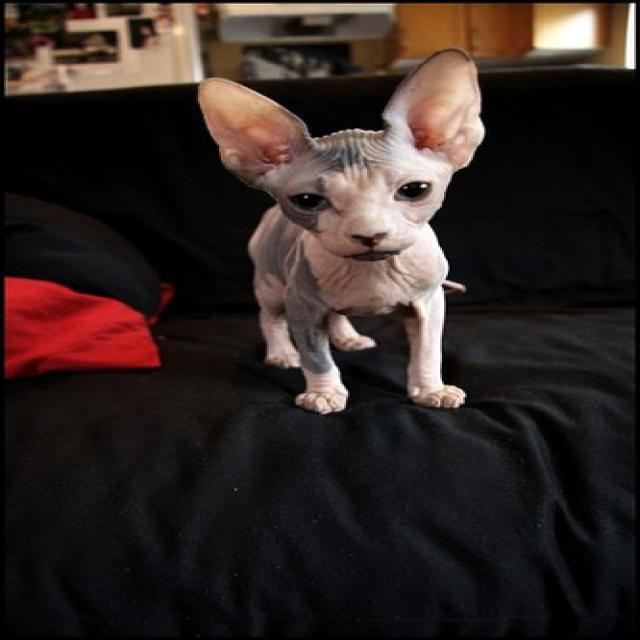cat: (194, 46, 483, 260)
